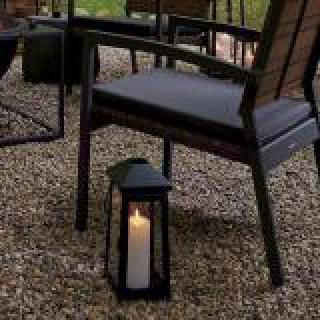fire: (0, 0, 4, 42)
